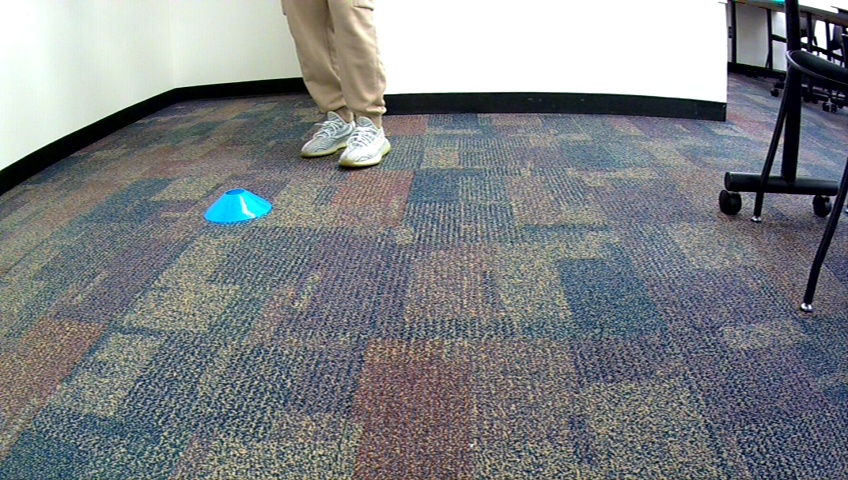cone: (204, 186, 271, 222)
